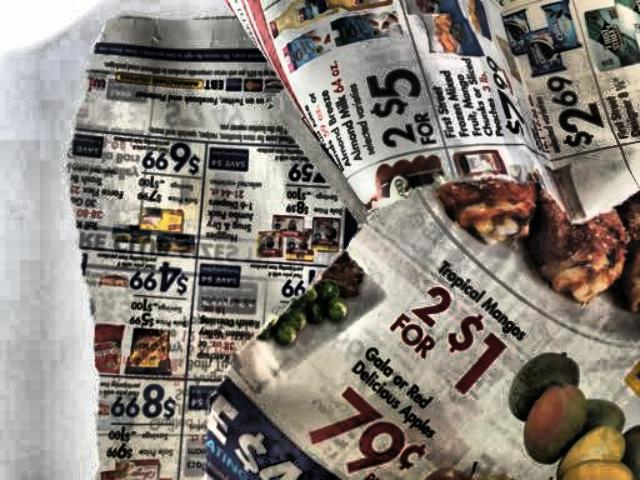Paper: (11, 0, 640, 480)
